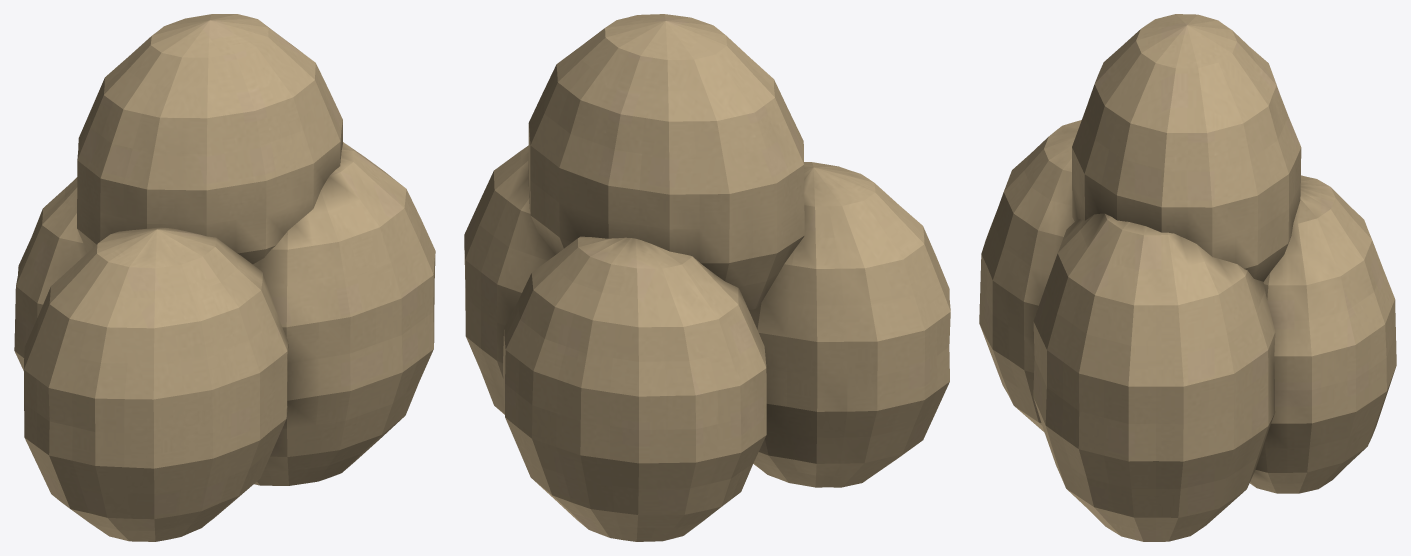
File: p_sacks.glb
3 renders of one model, left to right at view 1: azimuth 30°, elevation 25°; view 2: azimuth 150°, elevation 25°; view 3: azimuth 270°, elevation 25°, orthographic. The views are drawn at different scales.
Parts seen in each view (by area): view 1: sacks; view 2: sacks; view 3: sacks.
Boxes of the visible parts, box(x1,y1,x2,y2) form: sacks: box(14, 14, 435, 541); sacks: box(464, 14, 950, 541); sacks: box(979, 14, 1396, 541).
Size of the model in its own units: 1.27 by 1.35 by 1.08.
1 material, 1 textured.
